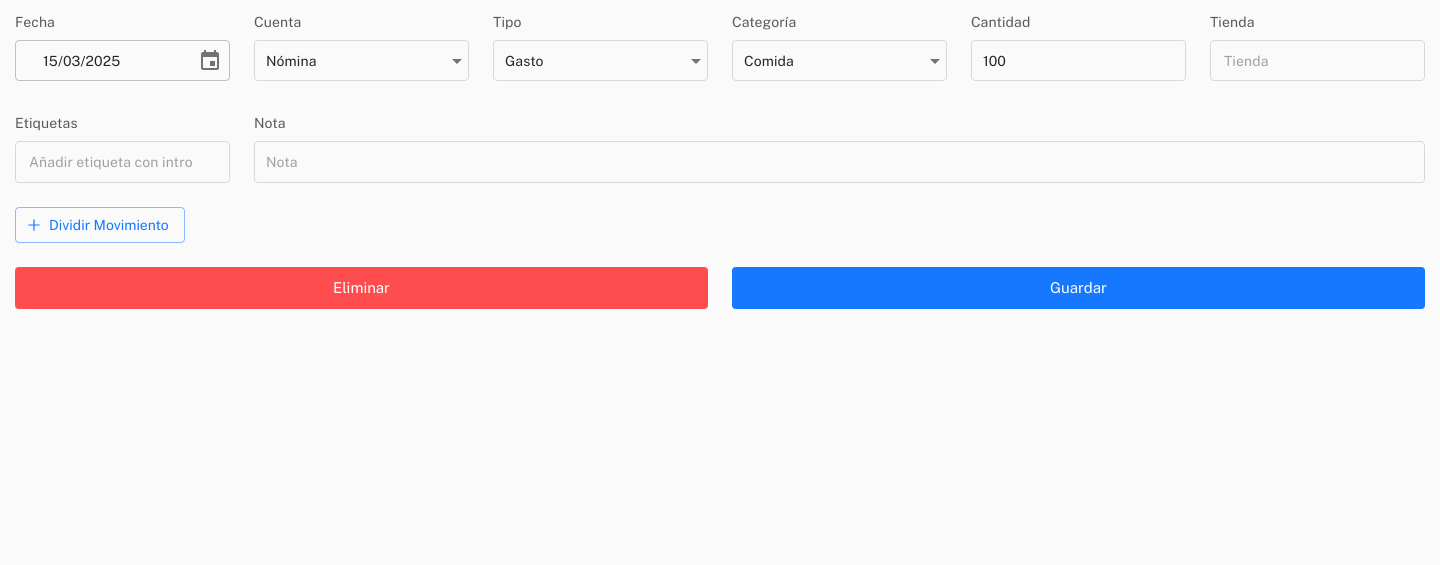
TransactionEdit splits › enters split mode from the divide button
Click the button "Dividir movimiento" at (100, 225), box [15,206,185,243]
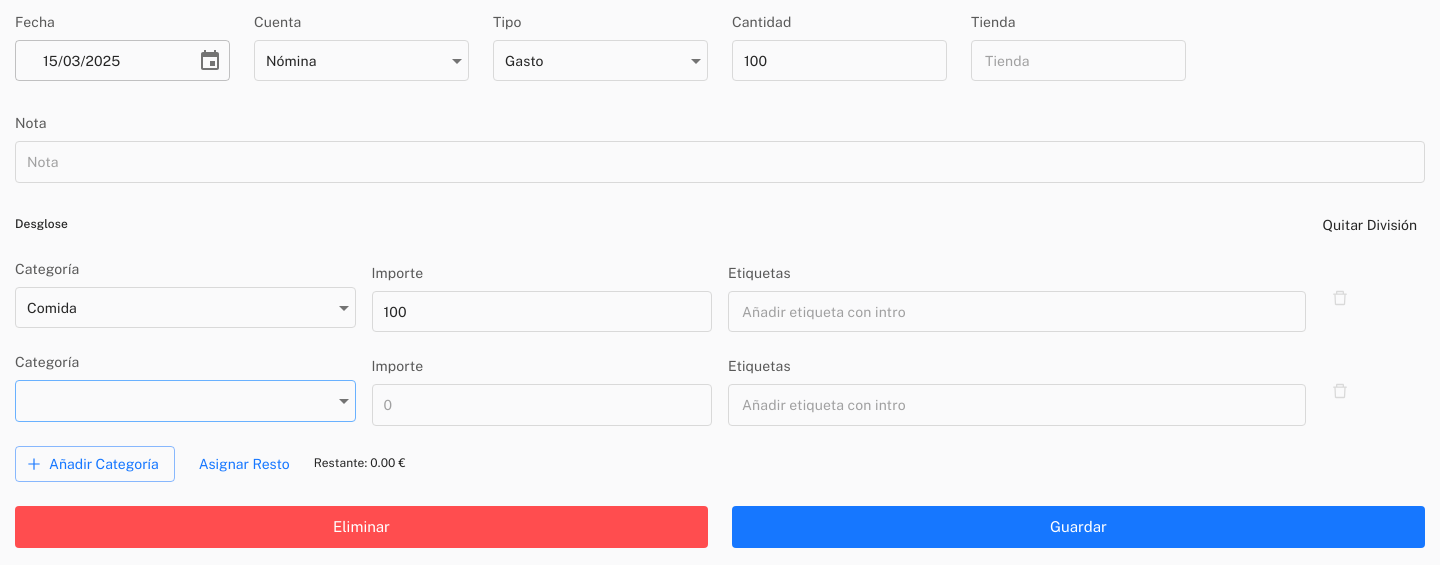
expect the heading "Desglose" is shown: met, box [15,215,68,235]
expect the button "Asignar resto" is shown: met, box [191,446,298,482]
